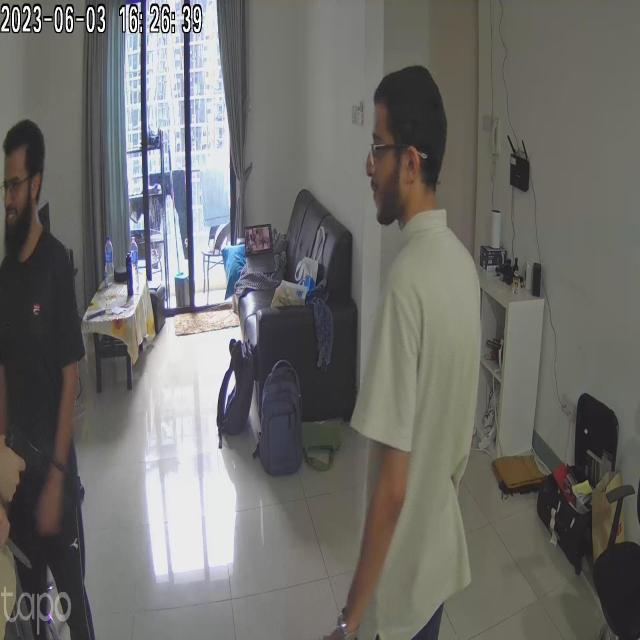Knife: (0, 518, 42, 576)
